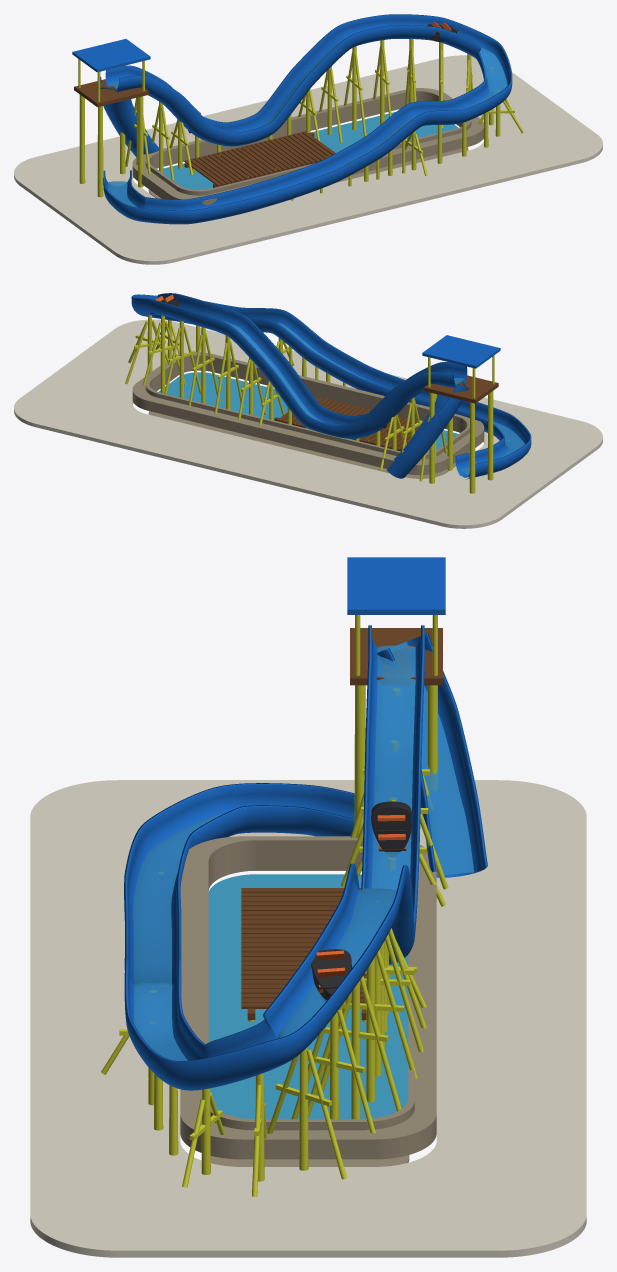
File: water-coaster.glb
The picture shows the model from 3 angles, top to bottom: view 1: azimuth 30°, elevation 25°; view 2: azimuth 150°, elevation 25°; view 3: azimuth 270°, elevation 25°; orthographic projection. The views are drawn at different scales.
Parts seen in each view (by area): view 1: concrete_deck, flume_main, pool_basin_wall, pier, pool_coping, pool_water_surface, station, flume_main_water, station_canopy, flume_lift, station_platform, pool_basin_floor (+2 smaller); view 2: concrete_deck, flume_main, pool_coping, pool_basin_wall, pool_water_surface, flume_lift, station, station_canopy, flume_main_water, pier, pool_basin_floor, station_platform (+4 smaller); view 3: concrete_deck, flume_main, flume_main_water, pool_coping, pool_water_surface, pool_basin_wall, pier, station_canopy, flume_lift, flume_lift_water, station, station_platform (+7 smaller).
Part boxes in pixels (x1,y1,x2,y2): concrete_deck: (14,55,602,264); flume_main: (103,14,512,224); pool_basin_wall: (145,89,471,195); pier: (184,131,335,186); pool_coping: (132,88,483,205); pool_water_surface: (158,112,458,189); station: (78,59,144,197); flume_main_water: (107,35,507,207); station_canopy: (72,39,150,72); flume_lift: (100,76,158,157); station_platform: (74,79,148,107); pool_basin_floor: (148,147,468,198); concrete_deck: (14,319,602,528); flume_main: (131,293,531,479); pool_coping: (132,352,484,475); pool_basin_wall: (145,353,469,459); pool_water_surface: (158,372,458,452); flume_lift: (386,373,469,478); station: (428,355,494,493); station_canopy: (422,335,500,368); flume_main_water: (220,320,524,476); pier: (277,396,421,450); pool_basin_floor: (148,411,455,478); station_platform: (424,375,498,403); concrete_deck: (30,780,586,1257); flume_main: (124,625,424,1090); flume_main_water: (133,645,415,1060); pool_coping: (180,836,436,1159); pool_water_surface: (208,874,408,1119); pool_basin_wall: (202,837,414,1130); pier: (241,888,366,1021); station_canopy: (347,557,445,614); flume_lift: (377,633,487,877); flume_lift_water: (396,641,473,876); station: (354,615,438,837); station_platform: (350,628,442,685).
Bounding box in the file's own units: 43 × 12.16 × 21.5.
